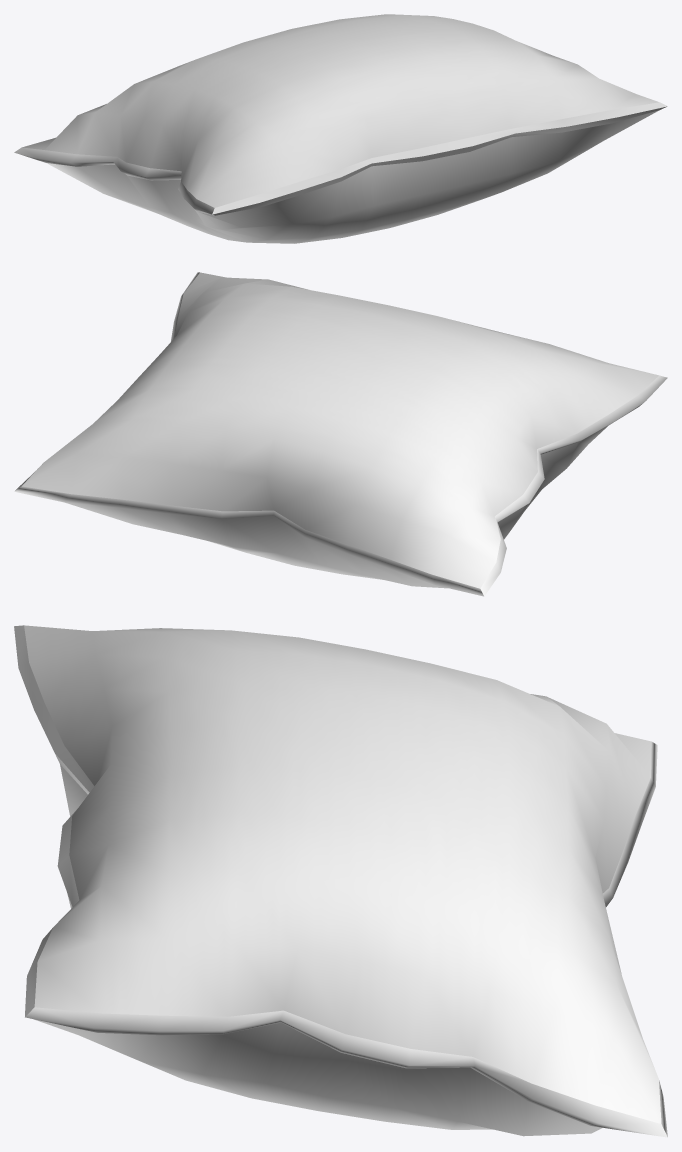
The model's file is newpillow.fbx.
The picture shows the model from 3 angles, top to bottom: view 1: azimuth 30°, elevation 25°; view 2: azimuth 150°, elevation 25°; view 3: azimuth 270°, elevation 25°; orthographic projection. The views are drawn at different scales.
Visible parts, largest first — view 1: polySurface3; view 2: polySurface3; view 3: polySurface3.
Boxes of the visible parts, left/top/right/bottom form: polySurface3: left=14, top=14, right=667, bottom=243; polySurface3: left=14, top=272, right=667, bottom=596; polySurface3: left=14, top=625, right=667, bottom=1137.
Size of the model in its own units: 6.54 by 2.55 by 4.66.
